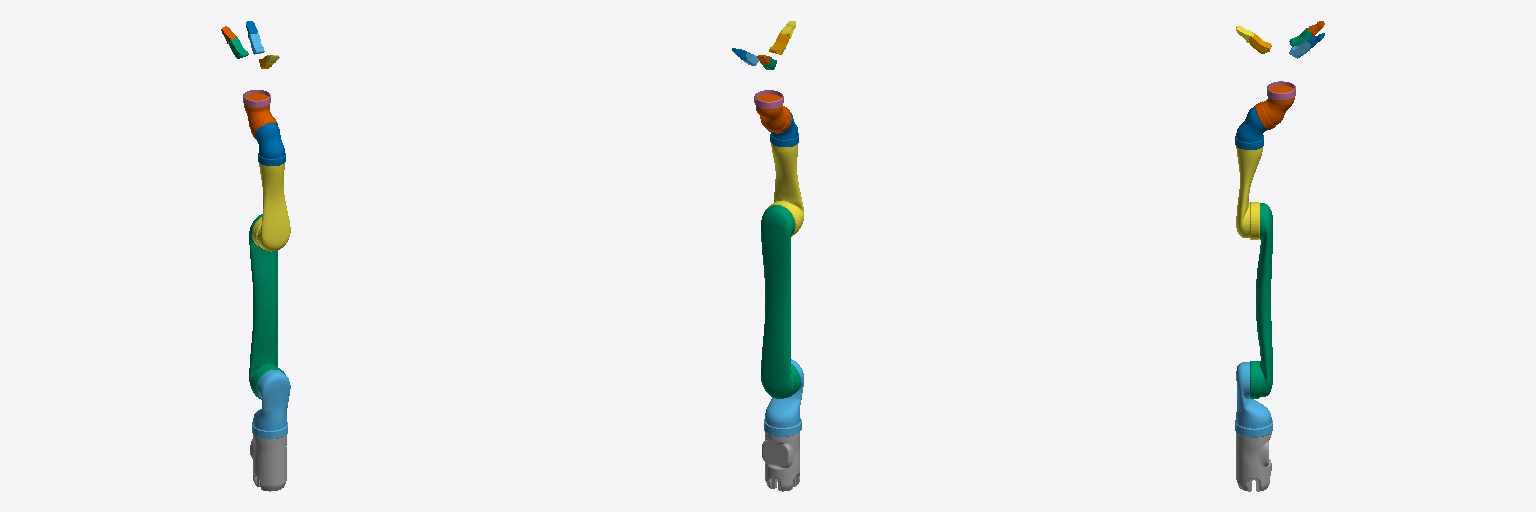
robot.urdf — Kinova:
<?xml version="1.0" encoding="UTF-8"?>
<robot name="Kinova">
  <joint name="j2n6s300_joint_1" type="continuous">
    <origin xyz="0. 0. 0.15675" rpy="3.1415927 1.5707961 3.1415927"/>
    <parent link="j2n6s300_link_base"/>
    <child link="j2n6s300_link_1"/>
    <axis xyz="1. 0. 0."/>
  </joint>
  <joint name="j2n6s300_joint_2" type="revolute">
    <origin xyz="-0.11875 0.0016 -0. " rpy="-3.1415925 0.0000001 -1.5707964"/>
    <parent link="j2n6s300_link_1"/>
    <child link="j2n6s300_link_2"/>
    <axis xyz="1. 0. 0."/>
    <limit lower="0.8203047" upper="5.4628806" effort="4800." velocity="0.6283185"/>
  </joint>
  <joint name="j2n6s300_joint_3" type="revolute">
    <origin xyz="-0. -0.41 0. " rpy="-3.1415927 -0.0000002 3.1415925"/>
    <parent link="j2n6s300_link_2"/>
    <child link="j2n6s300_link_3"/>
    <axis xyz="1. 0. 0."/>
    <limit lower="0.3316125" upper="5.9515727" effort="2400." velocity="0.6283185"/>
  </joint>
  <joint name="j2n6s300_joint_4" type="continuous">
    <origin xyz="-0.0114 0.2073 -0. " rpy="-3.1415925 0.0000001 -1.5707964"/>
    <parent link="j2n6s300_link_3"/>
    <child link="j2n6s300_link_4"/>
    <axis xyz="1. 0. 0."/>
  </joint>
  <joint name="j2n6s300_joint_5" type="continuous">
    <origin xyz="-0.06414 -0.03703 0. " rpy="-3.1415925 -0. 1.0471976"/>
    <parent link="j2n6s300_link_4"/>
    <child link="j2n6s300_link_5"/>
    <axis xyz="1. 0. 0."/>
  </joint>
  <joint name="j2n6s300_joint_6" type="continuous">
    <origin xyz="-0.06414 -0.03703 0. " rpy="-3.1415925 0. 1.0471976"/>
    <parent link="j2n6s300_link_5"/>
    <child link="j2n6s300_link_6"/>
    <axis xyz="1. 0. 0."/>
  </joint>
  <joint name="j2n6s300_joint_end_effector" type="fixed">
    <origin xyz="-0.16 0. 0. " rpy="-1.5707964 0.0000002 0. "/>
    <parent link="j2n6s300_link_6"/>
    <child link="j2n6s300_end_effector"/>
  </joint>
  <joint name="j2n6s300_joint_finger_1" type="revolute">
    <origin xyz="-0.11467 0.03126 -0.00279" rpy="-1.9685519 -1.3587914 -2.1017172"/>
    <parent link="j2n6s300_link_6"/>
    <child link="j2n6s300_link_finger_1"/>
    <axis xyz="1. 0. 0."/>
    <limit lower="0." upper="1.51" effort="120." velocity="1."/>
  </joint>
  <joint name="j2n6s300_joint_finger_2" type="revolute">
    <origin xyz="-0.11482 -0.02707 -0.02226" rpy="0.649263 1.3861405 1.5707967"/>
    <parent link="j2n6s300_link_6"/>
    <child link="j2n6s300_link_finger_2"/>
    <axis xyz="1. 0. 0."/>
    <limit lower="0." upper="1.51" effort="120." velocity="1."/>
  </joint>
  <joint name="j2n6s300_joint_finger_3" type="revolute">
    <origin xyz="-0.11482 -0.02707 0.02226" rpy="-2.49233 1.3861405 -1.5707963"/>
    <parent link="j2n6s300_link_6"/>
    <child link="j2n6s300_link_finger_3"/>
    <axis xyz="1. 0. 0."/>
    <limit lower="0." upper="1.51" effort="120." velocity="1."/>
  </joint>
  <joint name="j2n6s300_joint_finger_tip_1" type="revolute">
    <origin xyz="0. -0.003 -0.044" rpy="-0. -0.0000001 -0.0000001"/>
    <parent link="j2n6s300_link_finger_1"/>
    <child link="j2n6s300_link_finger_tip_1"/>
    <axis xyz="1. 0. 0."/>
    <limit lower="0." upper="1.9999999" effort="120." velocity="1."/>
  </joint>
  <joint name="j2n6s300_joint_finger_tip_2" type="revolute">
    <origin xyz="-0. -0.003 -0.044" rpy="0.0000001 -0. -0. "/>
    <parent link="j2n6s300_link_finger_2"/>
    <child link="j2n6s300_link_finger_tip_2"/>
    <axis xyz="1. 0. 0."/>
    <limit lower="0." upper="1.9999999" effort="120." velocity="1."/>
  </joint>
  <joint name="j2n6s300_joint_finger_tip_3" type="revolute">
    <origin xyz="0. -0.003 -0.044" rpy="0.0000001 0. -0.0000001"/>
    <parent link="j2n6s300_link_finger_3"/>
    <child link="j2n6s300_link_finger_tip_3"/>
    <axis xyz="1. 0. 0."/>
    <limit lower="0." upper="1.9999999" effort="120." velocity="1."/>
  </joint>
  <!--joint name="root_joint" type="fixed">
    <origin xyz="0. 0. 0." rpy="0. 0. 0."/>
    <parent link="Root"/>
    <child link="j2n6s300_link_base"/>
  </joint>
  <link name="Root"/-->
  <link name="j2n6s300_end_effector">
    <inertial>
      <origin xyz="0. 0. 0." rpy="0. 0. 0."/>
      <mass value="0.0000001"/>
      <inertia ixx="0.001" ixy="0." ixz="0." iyy="0.001" iyz="0." izz="0.001"/>
    </inertial>
  </link>
  <link name="j2n6s300_link_1">
    <inertial>
      <origin xyz="0. -0.002 -0.0605" rpy="0. 0. 0."/>
      <mass value="0.7477"/>
      <inertia ixx="0.0015203" ixy="0." ixz="0." iyy="0.0015203" iyz="0." izz="0.0005982"/>
    </inertial>
    <visual>
      <origin xyz="0. 0. 0." rpy="0. 1.5707963 0. "/>
      <geometry>
        <mesh filename="package://kinova_moveit_config/meshes/j2n6s300_link_1_visuals_mesh_0.obj" scale="1. 1. 1."/>
      </geometry>
    </visual>
    <visual>
      <origin xyz="0. 0. 0." rpy="0. 1.5707963 0. "/>
      <geometry>
        <mesh filename="package://kinova_moveit_config/meshes/j2n6s300_link_1_visuals_mesh_1.obj" scale="1. 1. 1."/>
      </geometry>
    </visual>
    <visual>
      <origin xyz="0. 0. 0." rpy="0. 1.5707963 0. "/>
      <geometry>
        <mesh filename="package://kinova_moveit_config/meshes/j2n6s300_link_1_collisions_mesh_0.obj" scale="1. 1. 1."/>
      </geometry>
    </visual>
    <collision>
      <origin xyz="0. 0. 0." rpy="0. 1.5707963 0. "/>
      <geometry>
        <mesh filename="package://kinova_moveit_config/meshes/j2n6s300_link_1_collisions_mesh_0.obj" scale="1. 1. 1."/>
      </geometry>
    </collision>
  </link>
  <link name="j2n6s300_link_2">
    <inertial>
      <origin xyz="0. -0.2065 -0.01 " rpy="0. 0. 0."/>
      <mass value="0.99"/>
      <inertia ixx="0.0105022" ixy="0." ixz="0." iyy="0.000792" iyz="0." izz="0.0105022"/>
    </inertial>
    <visual>
      <origin xyz="0. 0. 0." rpy="0. 1.5707963 0. "/>
      <geometry>
        <mesh filename="package://kinova_moveit_config/meshes/j2n6s300_link_2_visuals_mesh_0.obj" scale="1. 1. 1."/>
      </geometry>
    </visual>
    <visual>
      <origin xyz="0. 0. 0." rpy="0. 1.5707963 0. "/>
      <geometry>
        <mesh filename="package://kinova_moveit_config/meshes/j2n6s300_link_2_visuals_mesh_1.obj" scale="1. 1. 1."/>
      </geometry>
    </visual>
    <visual>
      <origin xyz="0. 0. 0." rpy="0. 1.5707963 0. "/>
      <geometry>
        <mesh filename="package://kinova_moveit_config/meshes/j2n6s300_link_2_collisions_mesh_0.obj" scale="1. 1. 1."/>
      </geometry>
    </visual>
    <collision>
      <origin xyz="0. 0. 0." rpy="0. 1.5707963 0. "/>
      <geometry>
        <mesh filename="package://kinova_moveit_config/meshes/j2n6s300_link_2_collisions_mesh_0.obj" scale="1. 1. 1."/>
      </geometry>
    </collision>
  </link>
  <link name="j2n6s300_link_3">
    <inertial>
      <origin xyz="0. 0.081 -0.0086" rpy="0. 0. 0."/>
      <mass value="0.6763"/>
      <inertia ixx="0.0014202" ixy="0." ixz="0." iyy="0.0003043" iyz="0." izz="0.0014202"/>
    </inertial>
    <visual>
      <origin xyz="0. 0. 0." rpy="0. 1.5707963 0. "/>
      <geometry>
        <mesh filename="package://kinova_moveit_config/meshes/j2n6s300_link_3_visuals_mesh_0.obj" scale="1. 1. 1."/>
      </geometry>
    </visual>
    <visual>
      <origin xyz="0. 0. 0." rpy="0. 1.5707963 0. "/>
      <geometry>
        <mesh filename="package://kinova_moveit_config/meshes/j2n6s300_link_3_visuals_mesh_1.obj" scale="1. 1. 1."/>
      </geometry>
    </visual>
    <visual>
      <origin xyz="0. 0. 0." rpy="0. 1.5707963 0. "/>
      <geometry>
        <mesh filename="package://kinova_moveit_config/meshes/j2n6s300_link_3_collisions_mesh_0.obj" scale="1. 1. 1."/>
      </geometry>
    </visual>
    <collision>
      <origin xyz="0. 0. 0." rpy="0. 1.5707963 0. "/>
      <geometry>
        <mesh filename="package://kinova_moveit_config/meshes/j2n6s300_link_3_collisions_mesh_0.obj" scale="1. 1. 1."/>
      </geometry>
    </collision>
  </link>
  <link name="j2n6s300_link_4">
    <inertial>
      <origin xyz="0. -0.037 -0.0642" rpy="0. 0. 0."/>
      <mass value="0.426367"/>
      <inertia ixx="0.0000773" ixy="0." ixz="0." iyy="0.0000773" iyz="0." izz="0.0001428"/>
    </inertial>
    <visual>
      <origin xyz="0. -0. 0." rpy="0. 1.5707963 0. "/>
      <geometry>
        <mesh filename="package://kinova_moveit_config/meshes/j2n6s300_link_4_visuals_mesh_0.obj" scale="1. 1. 1."/>
      </geometry>
    </visual>
    <visual>
      <origin xyz="0. -0. 0." rpy="0. 1.5707963 0. "/>
      <geometry>
        <mesh filename="package://kinova_moveit_config/meshes/j2n6s300_link_4_visuals_mesh_1.obj" scale="1. 1. 1."/>
      </geometry>
    </visual>
    <visual>
      <origin xyz="0. -0. 0." rpy="0. 1.5707963 0. "/>
      <geometry>
        <mesh filename="package://kinova_moveit_config/meshes/j2n6s300_link_4_collisions_mesh_0.obj" scale="1. 1. 1."/>
      </geometry>
    </visual>
    <collision>
      <origin xyz="0. -0. 0." rpy="0. 1.5707963 0. "/>
      <geometry>
        <mesh filename="package://kinova_moveit_config/meshes/j2n6s300_link_4_collisions_mesh_0.obj" scale="1. 1. 1."/>
      </geometry>
    </collision>
  </link>
  <link name="j2n6s300_link_5">
    <inertial>
      <origin xyz="0. -0.037 -0.0642" rpy="0. 0. 0."/>
      <mass value="0.426367"/>
      <inertia ixx="0.0000773" ixy="0." ixz="0." iyy="0.0000773" iyz="0." izz="0.0001428"/>
    </inertial>
    <visual>
      <origin xyz="0. 0. 0." rpy="-0. 1.5707963 0. "/>
      <geometry>
        <mesh filename="package://kinova_moveit_config/meshes/j2n6s300_link_5_visuals_mesh_0.obj" scale="1. 1. 1."/>
      </geometry>
    </visual>
    <visual>
      <origin xyz="0. 0. 0." rpy="-0. 1.5707963 0. "/>
      <geometry>
        <mesh filename="package://kinova_moveit_config/meshes/j2n6s300_link_5_visuals_mesh_1.obj" scale="1. 1. 1."/>
      </geometry>
    </visual>
    <visual>
      <origin xyz="0. 0. 0." rpy="-0. 1.5707963 0. "/>
      <geometry>
        <mesh filename="package://kinova_moveit_config/meshes/j2n6s300_link_5_collisions_mesh_0.obj" scale="1. 1. 1."/>
      </geometry>
    </visual>
    <collision>
      <origin xyz="0. 0. 0." rpy="-0. 1.5707963 0. "/>
      <geometry>
        <mesh filename="package://kinova_moveit_config/meshes/j2n6s300_link_5_collisions_mesh_0.obj" scale="1. 1. 1."/>
      </geometry>
    </collision>
  </link>
  <link name="j2n6s300_link_6">
    <inertial>
      <origin xyz="0. 0. -0.06" rpy="0. 0. 0."/>
      <mass value="0.99"/>
      <inertia ixx="0.0003453" ixy="0." ixz="0." iyy="0.0003453" iyz="0." izz="0.0005816"/>
    </inertial>
    <visual>
      <origin xyz="0. 0. 0." rpy="-0. 1.5707963 0. "/>
      <geometry>
        <mesh filename="package://kinova_moveit_config/meshes/j2n6s300_link_6_visuals_mesh_0.obj" scale="1. 1. 1."/>
      </geometry>
    </visual>
    <visual>
      <origin xyz="0. 0. 0." rpy="-0. 1.5707963 0. "/>
      <geometry>
        <mesh filename="package://kinova_moveit_config/meshes/j2n6s300_link_6_visuals_mesh_1.obj" scale="1. 1. 1."/>
      </geometry>
    </visual>
    <visual>
      <origin xyz="0. 0. 0." rpy="-0. 1.5707963 0. "/>
      <geometry>
        <mesh filename="package://kinova_moveit_config/meshes/j2n6s300_link_6_collisions_mesh_0.obj" scale="1. 1. 1."/>
      </geometry>
    </visual>
    <collision>
      <origin xyz="0. 0. 0." rpy="-0. 1.5707963 0. "/>
      <geometry>
        <mesh filename="package://kinova_moveit_config/meshes/j2n6s300_link_6_collisions_mesh_0.obj" scale="1. 1. 1."/>
      </geometry>
    </collision>
  </link>
  <link name="j2n6s300_link_base">
    <inertial>
      <origin xyz="0. 0. 0.1255" rpy="0. 0. 0."/>
      <mass value="0.46784"/>
      <inertia ixx="0.0009513" ixy="0." ixz="0." iyy="0.0009513" iyz="0." izz="0.0003743"/>
    </inertial>
    <visual>
      <origin xyz="0. 0. 0." rpy="0. 0. 0."/>
      <geometry>
        <mesh filename="package://kinova_moveit_config/meshes/j2n6s300_link_base_visuals_mesh_0.obj" scale="1. 1. 1."/>
      </geometry>
    </visual>
    <visual>
      <origin xyz="0. 0. 0." rpy="0. 0. 0."/>
      <geometry>
        <mesh filename="package://kinova_moveit_config/meshes/j2n6s300_link_base_collisions_mesh_0.obj" scale="1. 1. 1."/>
      </geometry>
    </visual>
    <collision>
      <origin xyz="0. 0. 0." rpy="0. 0. 0."/>
      <geometry>
        <mesh filename="package://kinova_moveit_config/meshes/j2n6s300_link_base_collisions_mesh_0.obj" scale="1. 1. 1."/>
      </geometry>
    </collision>
  </link>
  <link name="j2n6s300_link_finger_1">
    <inertial>
      <origin xyz="0.022 0. 0. " rpy="0. 0. 0."/>
      <mass value="0.01"/>
      <inertia ixx="0.0000008" ixy="0." ixz="0." iyy="0.0000008" iyz="0." izz="0.0000001"/>
    </inertial>
    <visual>
      <origin xyz="0. 0. -0." rpy="0.0000001 1.5707963 0. "/>
      <geometry>
        <mesh filename="package://kinova_moveit_config/meshes/j2n6s300_link_finger_1_visuals_mesh_0.obj" scale="1. 1. 1."/>
      </geometry>
    </visual>
    <visual>
      <origin xyz="0. 0. -0." rpy="0.0000001 1.5707963 0. "/>
      <geometry>
        <mesh filename="package://kinova_moveit_config/meshes/j2n6s300_link_finger_1_collisions_mesh_0.obj" scale="1. 1. 1."/>
      </geometry>
    </visual>
    <collision>
      <origin xyz="0. 0. -0." rpy="0.0000001 1.5707963 0. "/>
      <geometry>
        <mesh filename="package://kinova_moveit_config/meshes/j2n6s300_link_finger_1_collisions_mesh_0.obj" scale="1. 1. 1."/>
      </geometry>
    </collision>
  </link>
  <link name="j2n6s300_link_finger_2">
    <inertial>
      <origin xyz="0.022 0. 0. " rpy="0. 0. 0."/>
      <mass value="0.01"/>
      <inertia ixx="0.0000008" ixy="0." ixz="0." iyy="0.0000008" iyz="0." izz="0.0000001"/>
    </inertial>
    <visual>
      <origin xyz="-0. 0. 0." rpy="0. 1.5707963 0. "/>
      <geometry>
        <mesh filename="package://kinova_moveit_config/meshes/j2n6s300_link_finger_2_visuals_mesh_0.obj" scale="1. 1. 1."/>
      </geometry>
    </visual>
    <visual>
      <origin xyz="-0. 0. 0." rpy="0. 1.5707963 0. "/>
      <geometry>
        <mesh filename="package://kinova_moveit_config/meshes/j2n6s300_link_finger_2_collisions_mesh_0.obj" scale="1. 1. 1."/>
      </geometry>
    </visual>
    <collision>
      <origin xyz="-0. 0. 0." rpy="0. 1.5707963 0. "/>
      <geometry>
        <mesh filename="package://kinova_moveit_config/meshes/j2n6s300_link_finger_2_collisions_mesh_0.obj" scale="1. 1. 1."/>
      </geometry>
    </collision>
  </link>
  <link name="j2n6s300_link_finger_3">
    <inertial>
      <origin xyz="0.022 0. 0. " rpy="0. 0. 0."/>
      <mass value="0.01"/>
      <inertia ixx="0.0000008" ixy="0." ixz="0." iyy="0.0000008" iyz="0." izz="0.0000001"/>
    </inertial>
    <visual>
      <origin xyz="0. -0. -0." rpy="0.0000001 1.5707963 0. "/>
      <geometry>
        <mesh filename="package://kinova_moveit_config/meshes/j2n6s300_link_finger_3_visuals_mesh_0.obj" scale="1. 1. 1."/>
      </geometry>
    </visual>
    <visual>
      <origin xyz="0. -0. -0." rpy="0.0000001 1.5707963 0. "/>
      <geometry>
        <mesh filename="package://kinova_moveit_config/meshes/j2n6s300_link_finger_3_collisions_mesh_0.obj" scale="1. 1. 1."/>
      </geometry>
    </visual>
    <collision>
      <origin xyz="0. -0. -0." rpy="0.0000001 1.5707963 0. "/>
      <geometry>
        <mesh filename="package://kinova_moveit_config/meshes/j2n6s300_link_finger_3_collisions_mesh_0.obj" scale="1. 1. 1."/>
      </geometry>
    </collision>
  </link>
  <link name="j2n6s300_link_finger_tip_1">
    <inertial>
      <origin xyz="0.022 0. 0. " rpy="0. 0. 0."/>
      <mass value="0.01"/>
      <inertia ixx="0.0000008" ixy="0." ixz="0." iyy="0.0000008" iyz="0." izz="0.0000001"/>
    </inertial>
    <visual>
      <origin xyz="0. 0. 0." rpy="0. 1.5707963 0. "/>
      <geometry>
        <mesh filename="package://kinova_moveit_config/meshes/j2n6s300_link_finger_tip_1_visuals_mesh_0.obj" scale="1. 1. 1."/>
      </geometry>
    </visual>
    <visual>
      <origin xyz="0. 0. 0." rpy="0. 1.5707963 0. "/>
      <geometry>
        <mesh filename="package://kinova_moveit_config/meshes/j2n6s300_link_finger_tip_1_collisions_mesh_0.obj" scale="1. 1. 1."/>
      </geometry>
    </visual>
    <collision>
      <origin xyz="0. 0. 0." rpy="0. 1.5707963 0. "/>
      <geometry>
        <mesh filename="package://kinova_moveit_config/meshes/j2n6s300_link_finger_tip_1_collisions_mesh_0.obj" scale="1. 1. 1."/>
      </geometry>
    </collision>
  </link>
  <link name="j2n6s300_link_finger_tip_2">
    <inertial>
      <origin xyz="0.022 0. 0. " rpy="0. 0. 0."/>
      <mass value="0.01"/>
      <inertia ixx="0.0000008" ixy="0." ixz="0." iyy="0.0000008" iyz="0." izz="0.0000001"/>
    </inertial>
    <visual>
      <origin xyz="-0. -0. 0." rpy="0. 1.5707963 0. "/>
      <geometry>
        <mesh filename="package://kinova_moveit_config/meshes/j2n6s300_link_finger_tip_2_visuals_mesh_0.obj" scale="1. 1. 1."/>
      </geometry>
    </visual>
    <visual>
      <origin xyz="-0. -0. 0." rpy="0. 1.5707963 0. "/>
      <geometry>
        <mesh filename="package://kinova_moveit_config/meshes/j2n6s300_link_finger_tip_2_collisions_mesh_0.obj" scale="1. 1. 1."/>
      </geometry>
    </visual>
    <collision>
      <origin xyz="-0. -0. 0." rpy="0. 1.5707963 0. "/>
      <geometry>
        <mesh filename="package://kinova_moveit_config/meshes/j2n6s300_link_finger_tip_2_collisions_mesh_0.obj" scale="1. 1. 1."/>
      </geometry>
    </collision>
  </link>
  <link name="j2n6s300_link_finger_tip_3">
    <inertial>
      <origin xyz="0.022 0. 0. " rpy="0. 0. 0."/>
      <mass value="0.01"/>
      <inertia ixx="0.0000008" ixy="0." ixz="0." iyy="0.0000008" iyz="0." izz="0.0000001"/>
    </inertial>
    <visual>
      <origin xyz="-0. 0. 0." rpy="0. 1.5707963 0. "/>
      <geometry>
        <mesh filename="package://kinova_moveit_config/meshes/j2n6s300_link_finger_tip_3_visuals_mesh_0.obj" scale="1. 1. 1."/>
      </geometry>
    </visual>
    <visual>
      <origin xyz="-0. 0. 0." rpy="0. 1.5707963 0. "/>
      <geometry>
        <mesh filename="package://kinova_moveit_config/meshes/j2n6s300_link_finger_tip_3_collisions_mesh_0.obj" scale="1. 1. 1."/>
      </geometry>
    </visual>
    <collision>
      <origin xyz="-0. 0. 0." rpy="0. 1.5707963 0. "/>
      <geometry>
        <mesh filename="package://kinova_moveit_config/meshes/j2n6s300_link_finger_tip_3_collisions_mesh_0.obj" scale="1. 1. 1."/>
      </geometry>
    </collision>
  </link>
</robot>

--- Facts derived from the render (not from the file) ---
3 views of the same robot in one strip: view 1: azimuth 30°, elevation 25°; view 2: azimuth 150°, elevation 25°; view 3: azimuth 270°, elevation 25° (orthographic).
Robot: Kinova — 14 links, 13 joints (8 revolute, 4 continuous, 1 fixed); root link j2n6s300_link_base; default pose: joints at zero except 2 at the middle of their limits (j2n6s300_joint_2 = 3.14, j2n6s300_joint_3 = 3.14).
Links seen in each view (by area): view 1: j2n6s300_link_2, j2n6s300_link_3, j2n6s300_link_1, j2n6s300_link_base, j2n6s300_link_4, j2n6s300_link_5; view 2: j2n6s300_link_2, j2n6s300_link_base, j2n6s300_link_3, j2n6s300_link_1, j2n6s300_link_5; view 3: j2n6s300_link_2, j2n6s300_link_base, j2n6s300_link_1, j2n6s300_link_3, j2n6s300_link_5, j2n6s300_link_4.
Boxes of the visible links, bbox=[...] form: j2n6s300_link_2: bbox=[249, 214, 285, 399]; j2n6s300_link_3: bbox=[252, 163, 290, 251]; j2n6s300_link_1: bbox=[252, 370, 290, 439]; j2n6s300_link_base: bbox=[250, 435, 286, 491]; j2n6s300_link_4: bbox=[255, 123, 285, 165]; j2n6s300_link_5: bbox=[244, 93, 277, 138]; j2n6s300_link_2: bbox=[761, 205, 800, 398]; j2n6s300_link_base: bbox=[762, 432, 799, 491]; j2n6s300_link_3: bbox=[765, 143, 803, 236]; j2n6s300_link_1: bbox=[764, 359, 803, 436]; j2n6s300_link_5: bbox=[756, 94, 791, 133]; j2n6s300_link_2: bbox=[1250, 203, 1272, 398]; j2n6s300_link_base: bbox=[1236, 432, 1271, 491]; j2n6s300_link_1: bbox=[1235, 362, 1272, 437]; j2n6s300_link_3: bbox=[1236, 146, 1262, 239]; j2n6s300_link_5: bbox=[1255, 85, 1294, 129]; j2n6s300_link_4: bbox=[1235, 106, 1266, 149].
Bounding box of the posed robot: 0.0919 × 0.211 × 1.18 m (x, y, z).
Meshes: 32 distinct files referenced, 30 mesh visuals loaded (30 OBJ); not drawn: 2 (reference not matched to a file when rendering).